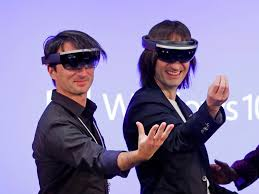hololens: (140, 32, 199, 64), (40, 48, 102, 73)
